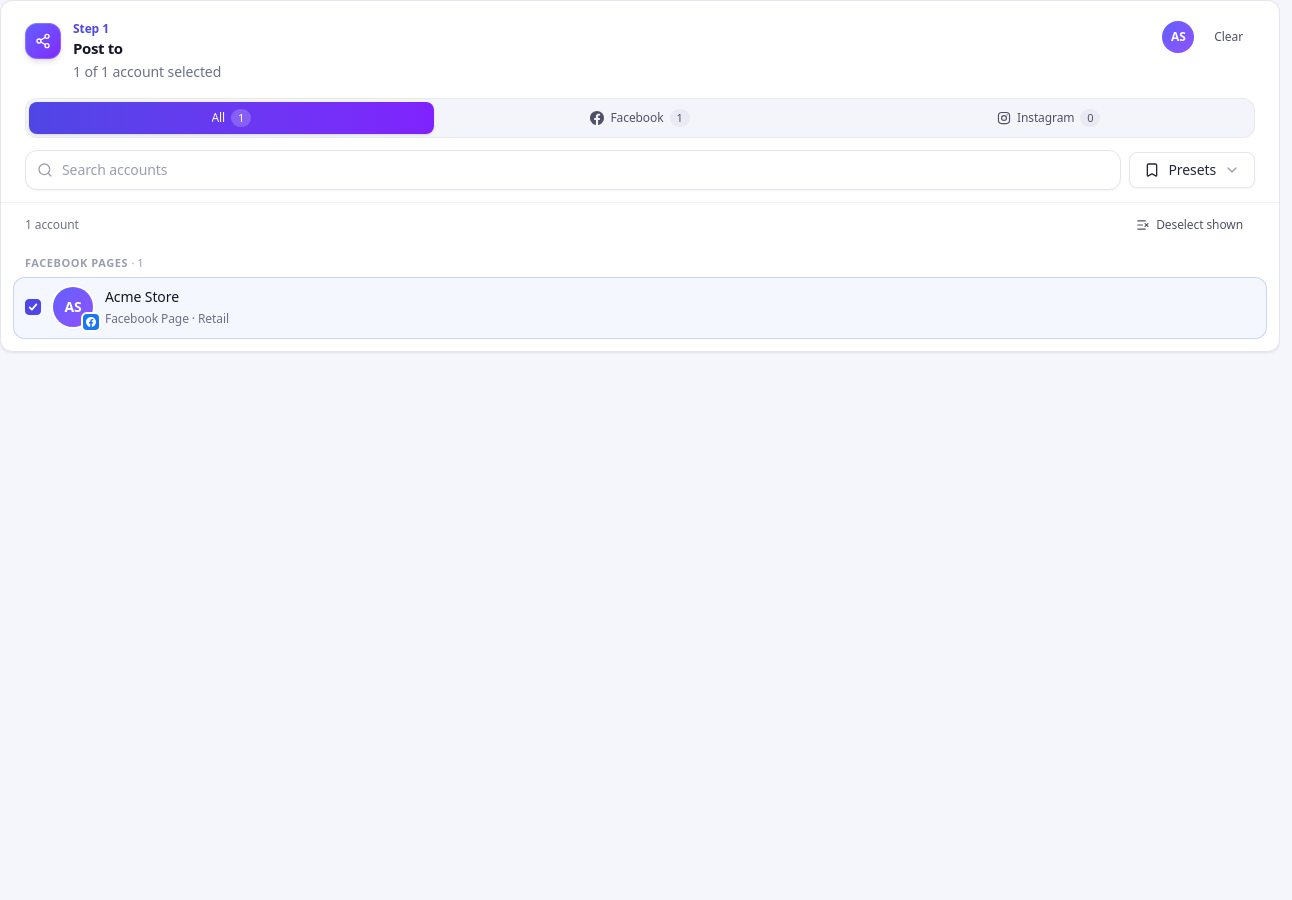
Scenario: AccountPresets — built-in presets › disables built-in presets that match no accounts and marks the current one
Click the button "Presets" at (1192, 170), box x1=1129 y1=152 x2=1255 y2=188
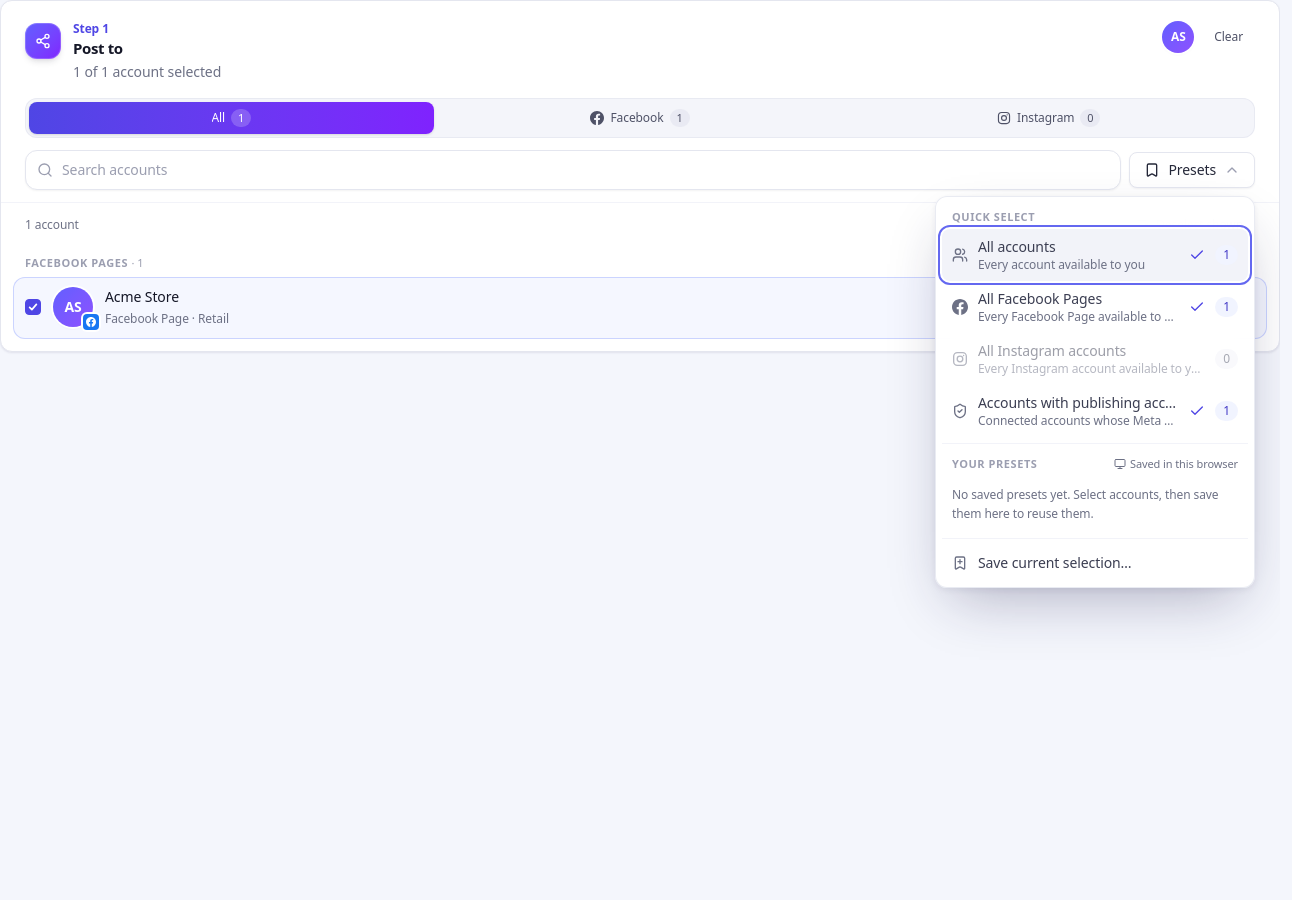
Expected: the menu item "All Instagram accounts" is disabled, x1=942 y1=333 x2=1248 y2=385
Expected: the menu item named "All Facebook Pages 1 account, current selection" is enabled, x1=942 y1=281 x2=1248 y2=333
